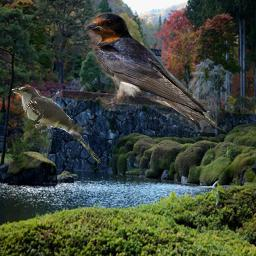Cuckoo: (11, 86, 101, 163)
Swallow: (85, 12, 229, 136)
